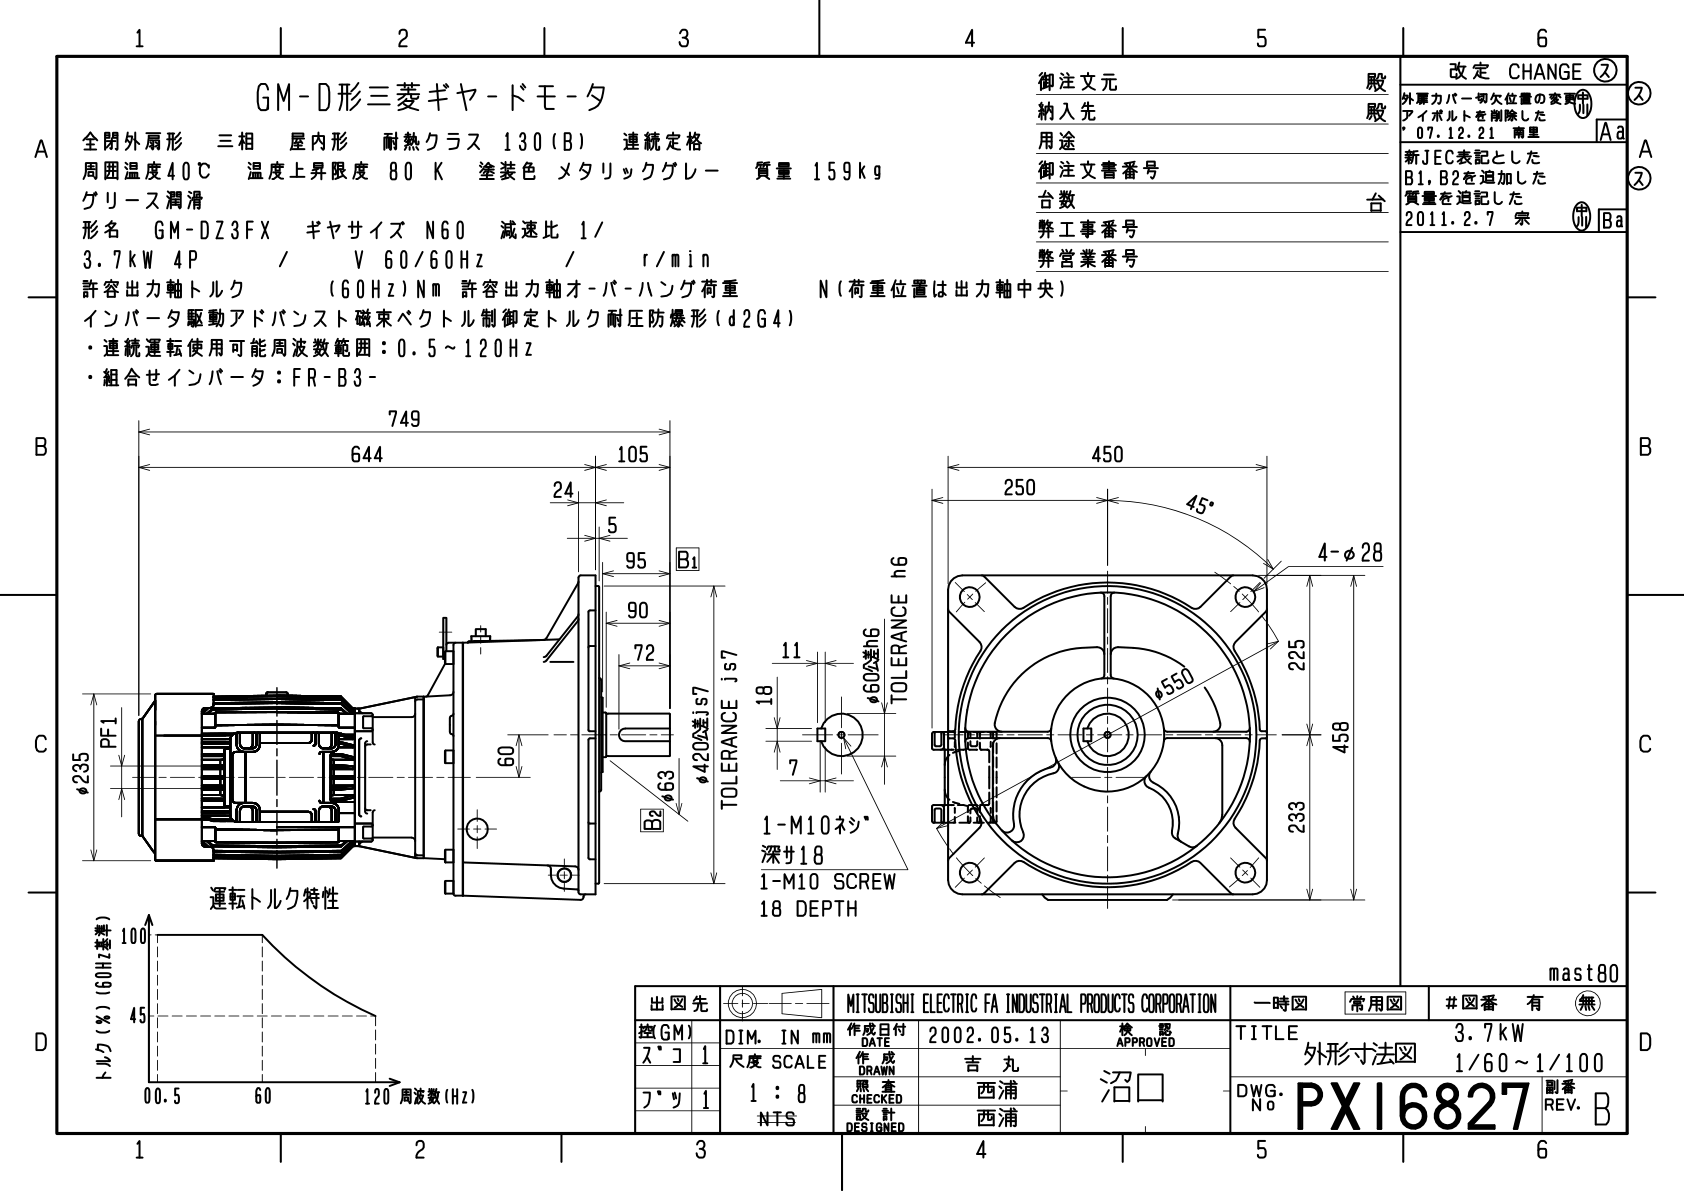GM_D_制御屋内_三相_フランジ: (64, 406, 1392, 967)
